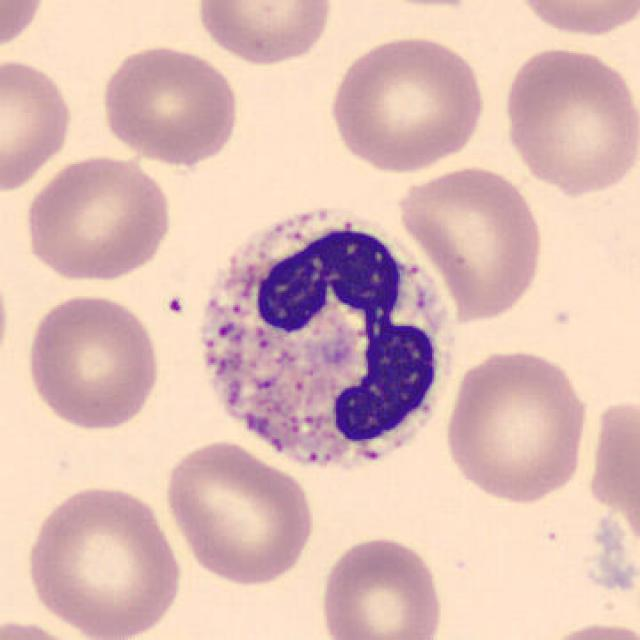Neutrophil: (183, 196, 459, 499)
RBC: (21, 481, 187, 640), (439, 346, 594, 506), (394, 162, 548, 323), (323, 30, 489, 175), (160, 437, 318, 587), (498, 42, 638, 200), (20, 150, 176, 286), (22, 291, 164, 434), (96, 41, 242, 166), (315, 532, 448, 640), (581, 386, 640, 585), (0, 54, 76, 194), (192, 0, 338, 69), (506, 0, 640, 39), (0, 0, 48, 58), (0, 615, 98, 640), (537, 617, 638, 640), (0, 252, 12, 384)
